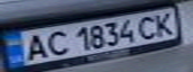1: (69, 24, 90, 52)
3: (103, 20, 124, 47)
4: (118, 16, 139, 43)
8: (87, 21, 109, 50)
A: (18, 32, 51, 62)
C: (39, 28, 72, 56), (133, 12, 163, 39)
K: (148, 9, 178, 37)
